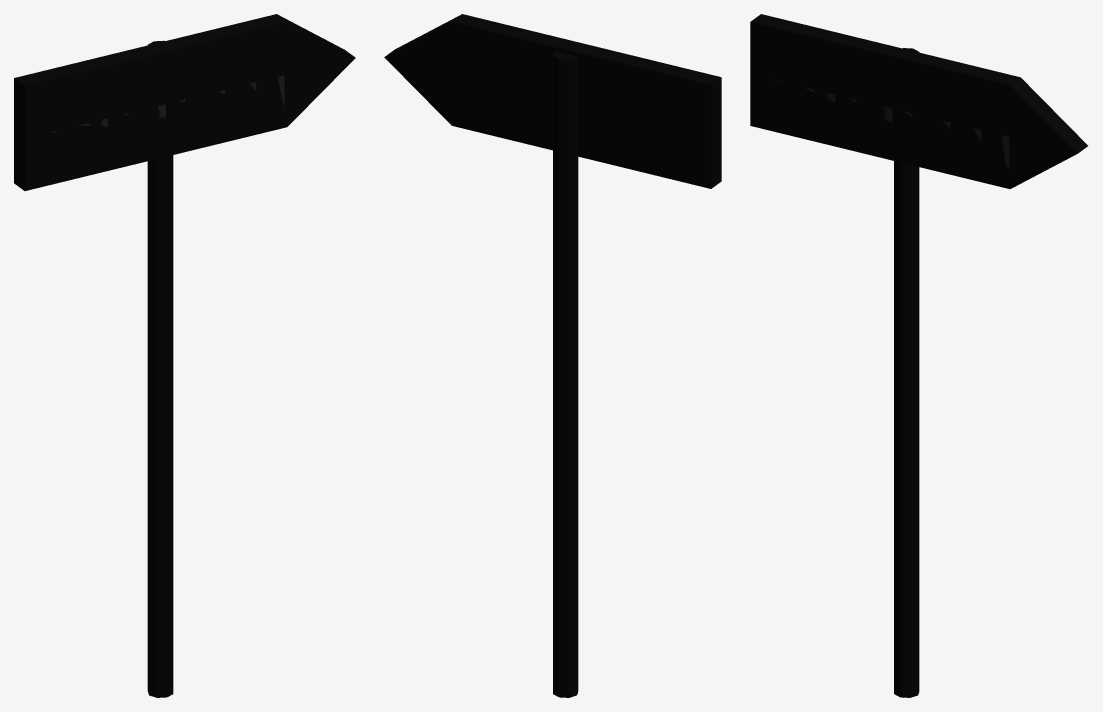
File: North sign.fbx
3 renders of one model, left to right at view 1: azimuth 30°, elevation 25°; view 2: azimuth 150°, elevation 25°; view 3: azimuth 330°, elevation 25°, orthographic.
Visible parts, largest first — view 1: Cube.001; view 2: Cube.001; view 3: Cube.001.
Boxes of the visible parts, bbox=[...] form: Cube.001: bbox=[14, 14, 355, 697]; Cube.001: bbox=[384, 14, 721, 697]; Cube.001: bbox=[750, 14, 1087, 697].
Size of the model in its own units: 115 by 215 by 10.68.
